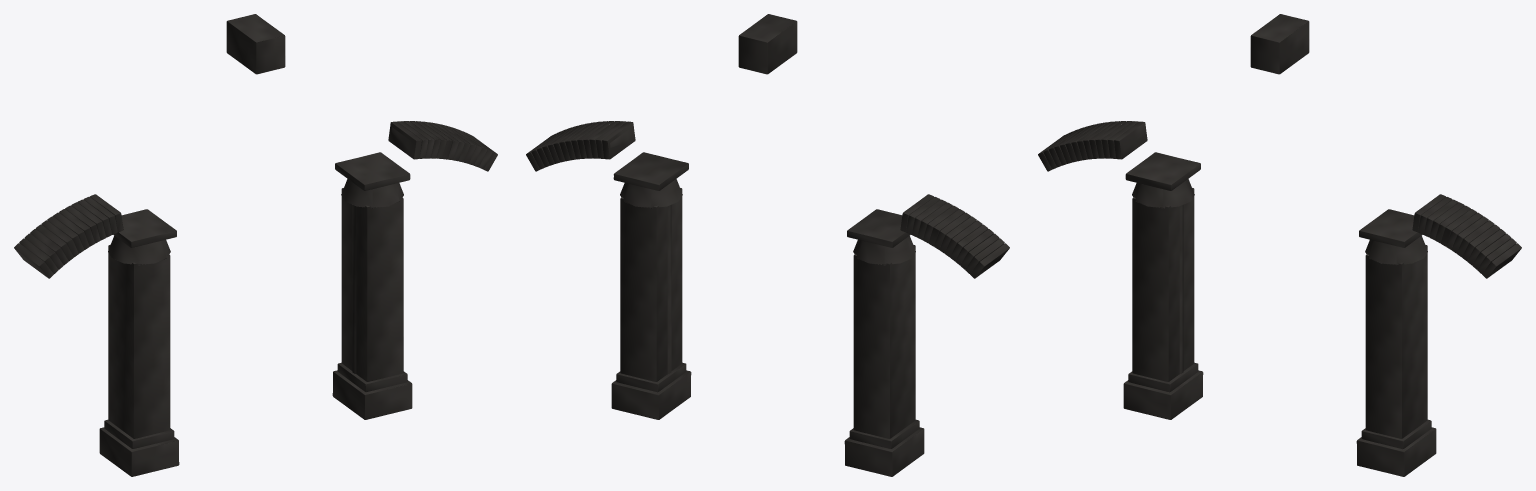
The model's file is GothicArch_Lancet_LOD1.glb.
The picture shows the model from 3 angles, left to right: view 1: azimuth 30°, elevation 25°; view 2: azimuth 150°, elevation 25°; view 3: azimuth 330°, elevation 25°; orthographic projection.
Parts seen in each view (by area): view 1: GothicArch_Lancet_LOD1; view 2: GothicArch_Lancet_LOD1; view 3: GothicArch_Lancet_LOD1.
Part boxes in pixels (left/top/right/bottom): GothicArch_Lancet_LOD1: left=14, top=14, right=497, bottom=476; GothicArch_Lancet_LOD1: left=526, top=14, right=1009, bottom=476; GothicArch_Lancet_LOD1: left=1038, top=14, right=1521, bottom=476.
Bounding box in the file's own units: 5.61 × 4.71 × 0.6826.
1 material, 1 textured.
